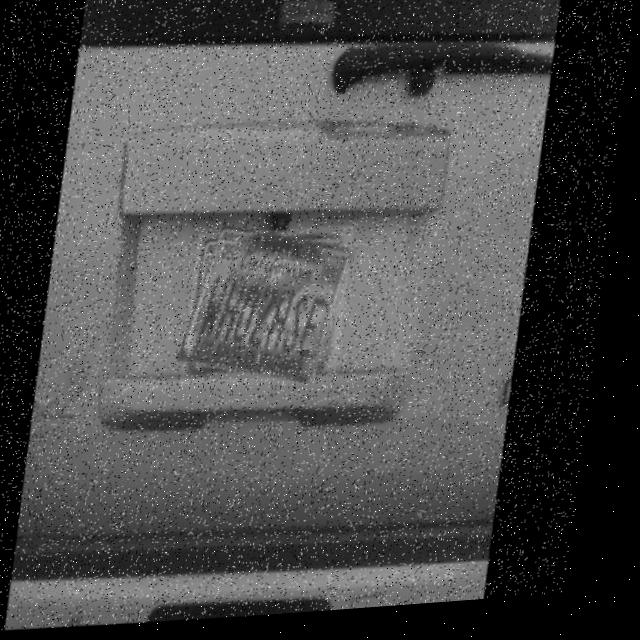LicensePlate: (188, 228, 361, 390)
